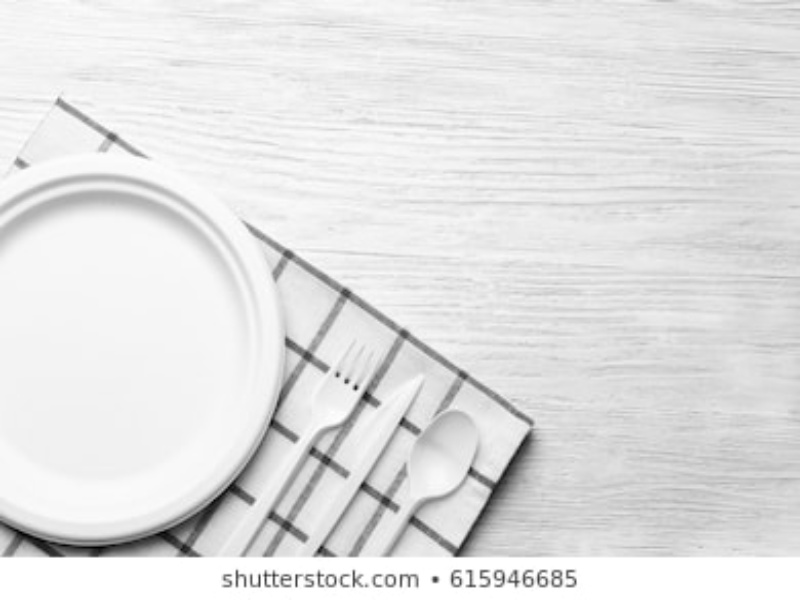plastic-plate: (1, 157, 286, 541)
plastic-silverware: (217, 339, 384, 555), (286, 372, 429, 554), (380, 404, 481, 560)
